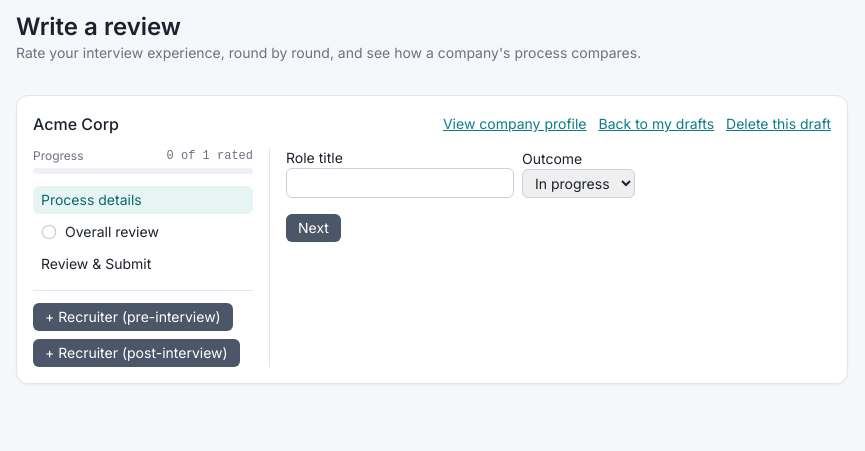
Test: Session-expiry warning mid-draft (GitHub issue #301) › warns within one poll interval once the session cookie disappears, without losing the draft
The image size is (865, 451).
Expected: the heading "Acme Corp" is shown, [33,112,119,136]
In the field labelled "Role title": (400, 183) [286,168,514,198], type "Backend Engineer"
Wait 30000 ms
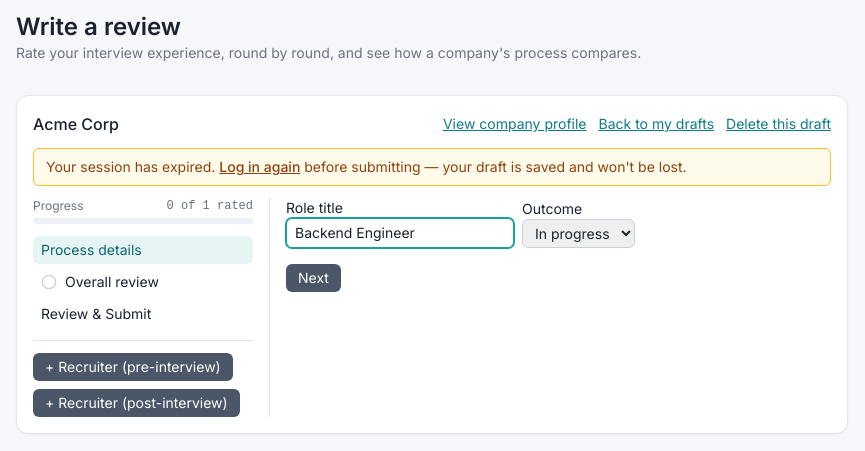
Expected: the text "Your session has expired." is shown, [46,158,215,175]
